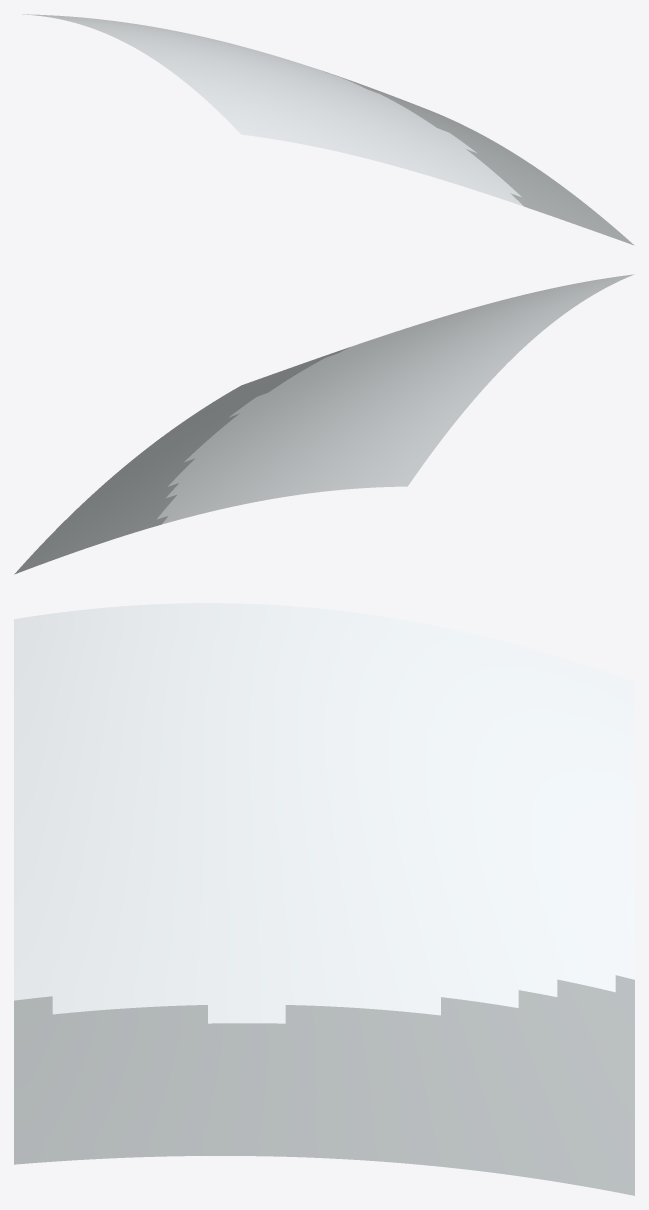
Rendered from alpine-15-9.glb.
3 views of the same model, one above another, from view 1: azimuth 30°, elevation 25°; view 2: azimuth 150°, elevation 25°; view 3: azimuth 270°, elevation 25° (orthographic). The views are drawn at different scales.
Parts seen in each view (by area): view 1: alpine-15-9; view 2: alpine-15-9; view 3: alpine-15-9.
Part boxes in pixels (left/top/right/bottom): alpine-15-9: left=22, top=14, right=634, bottom=245; alpine-15-9: left=14, top=274, right=634, bottom=574; alpine-15-9: left=14, top=603, right=634, bottom=1195.
Size of the model in its own units: 256 by 150 by 256.
2 materials, 2 textured.
